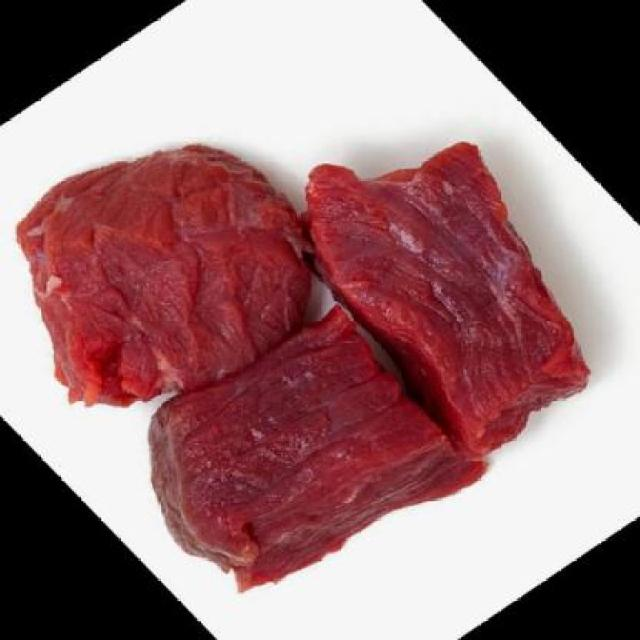beef: (136, 306, 480, 601), (303, 138, 589, 461), (18, 140, 314, 410)
